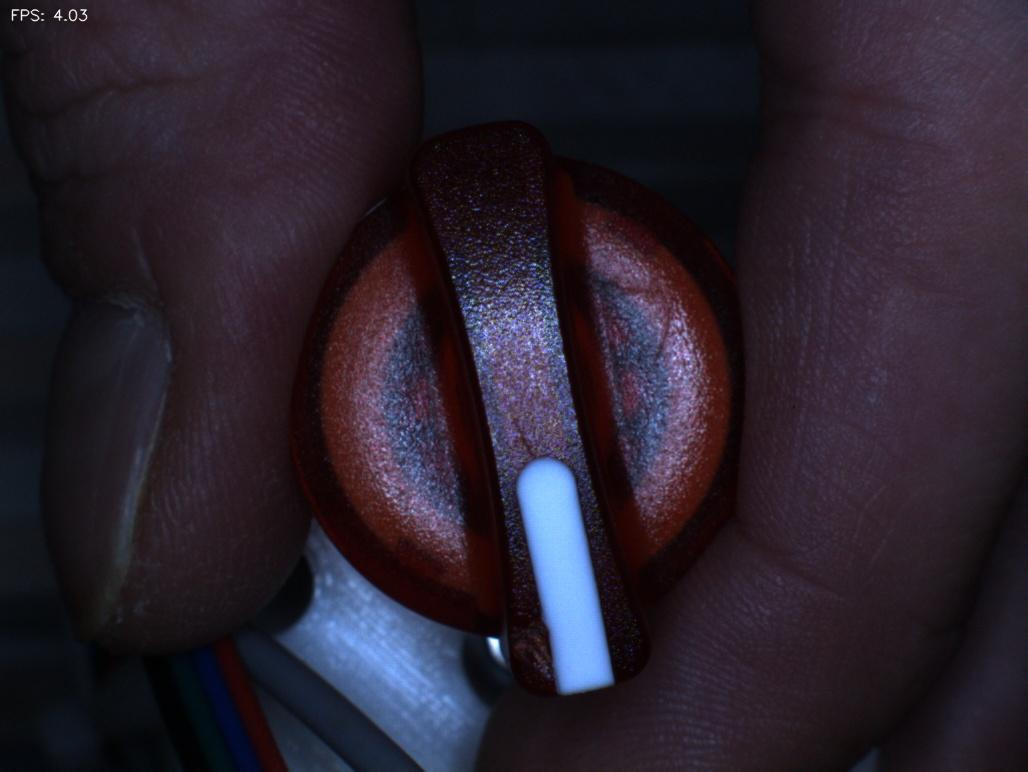Choc: (493, 604, 579, 695)
